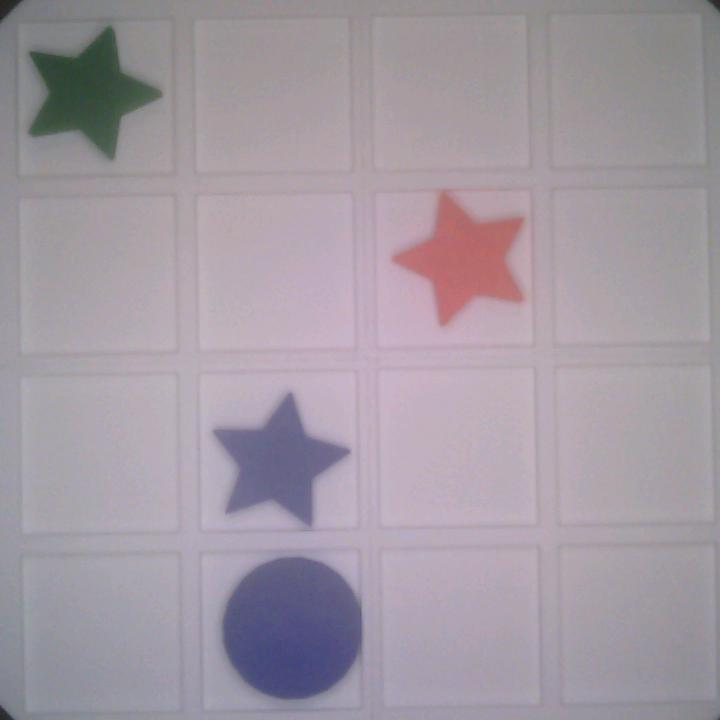Blue circle: (215, 560, 362, 699)
Blue star: (218, 385, 350, 520)
Green star: (21, 24, 167, 161)
Orange star: (390, 186, 534, 332)
